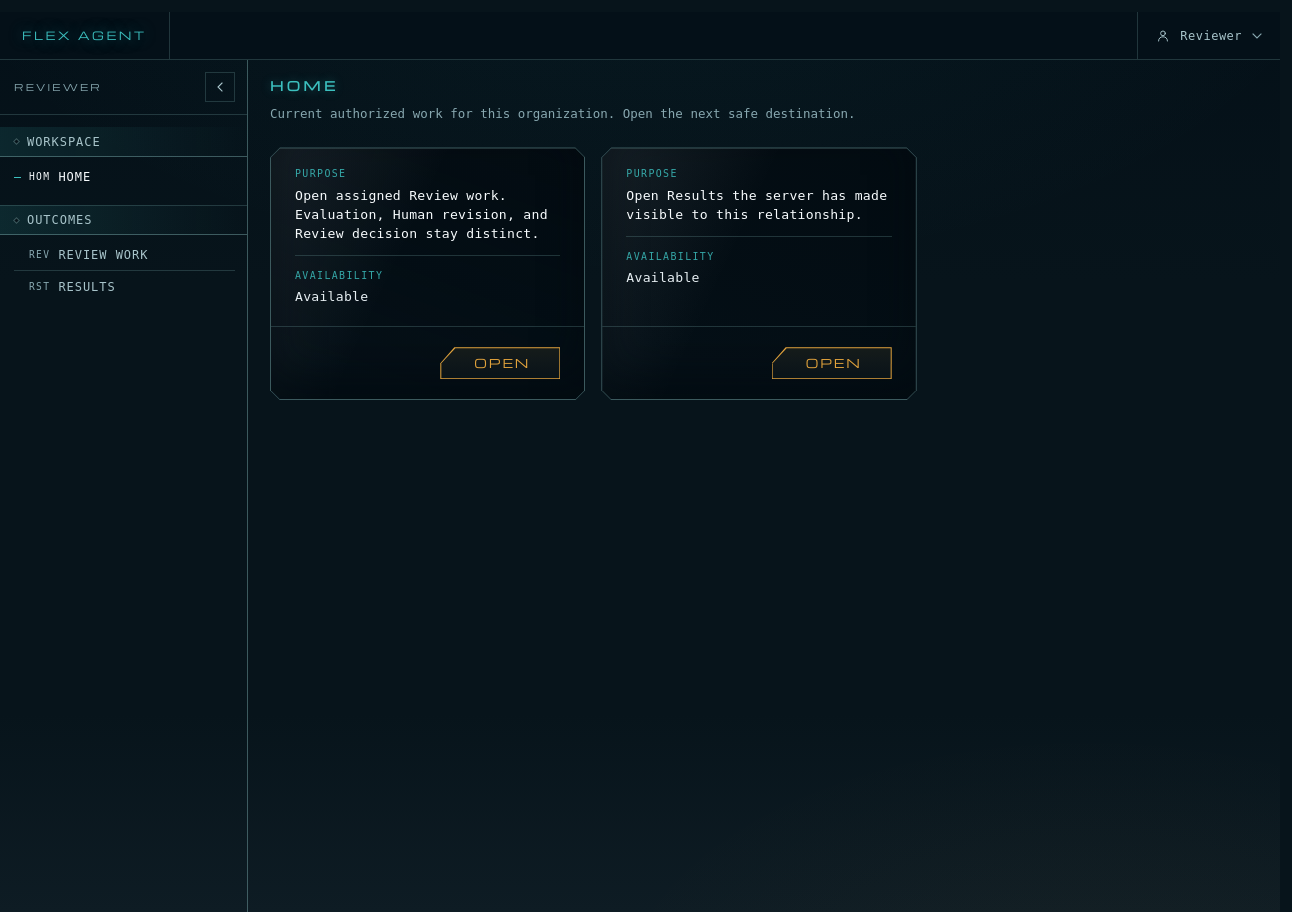
Test: App production shell › keeps an authorized Results destination on an honest unavailable page
Click the link "RST Results".
click(72, 287)  # box [29,280,116,294]
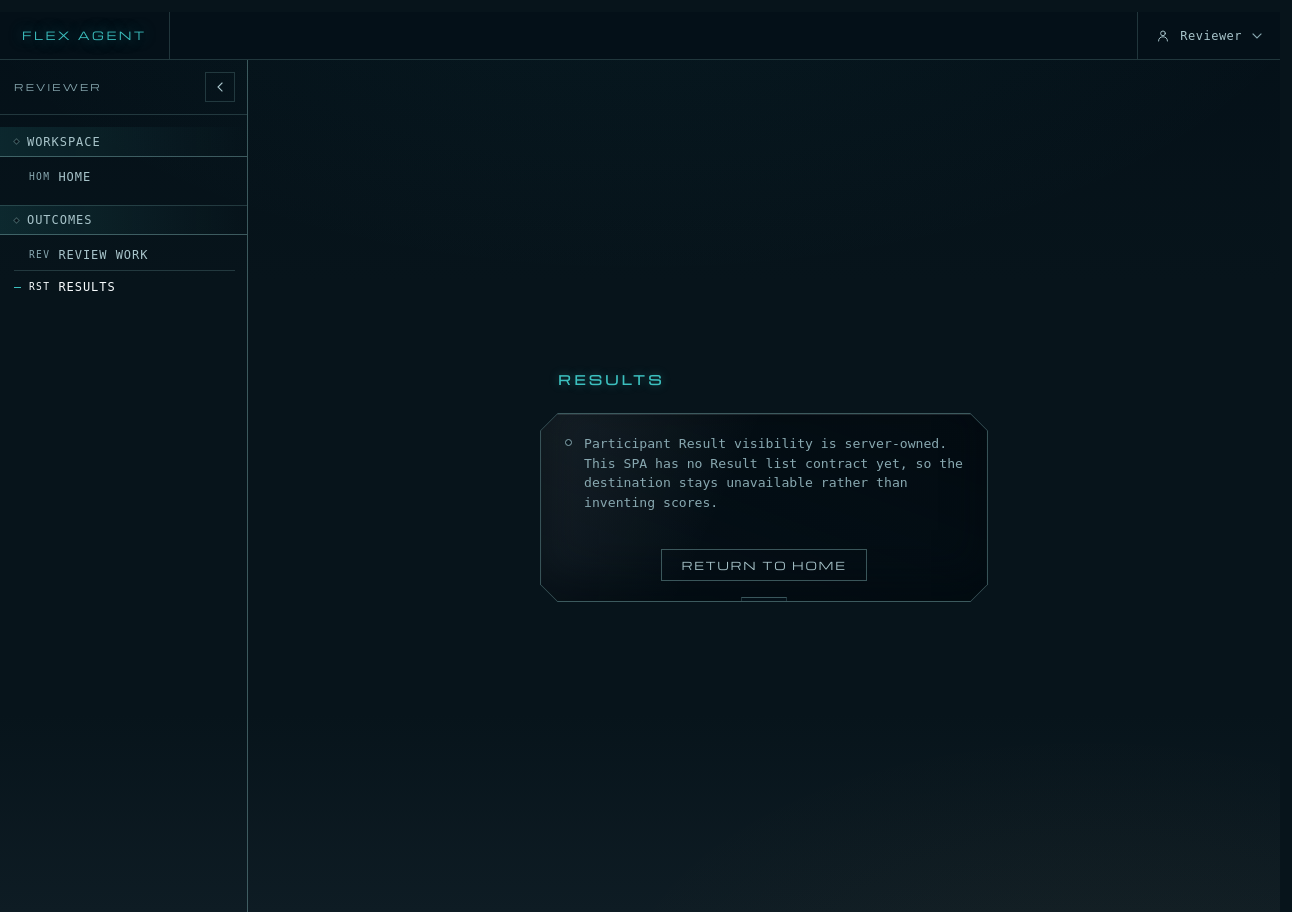
Expected: the heading "Results" is shown, [558,370,665,389]
Expected: the text "no Result list contract yet" is shown, [584,436,963,510]
